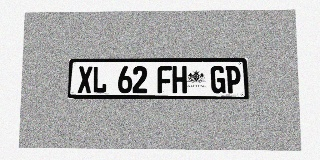2: (133, 66, 147, 93)
6: (118, 66, 132, 93)
F: (157, 66, 172, 93)
G: (211, 66, 226, 93)
H: (172, 66, 187, 93)
L: (92, 66, 107, 93)
P: (226, 66, 241, 93)
X: (78, 66, 92, 93)
